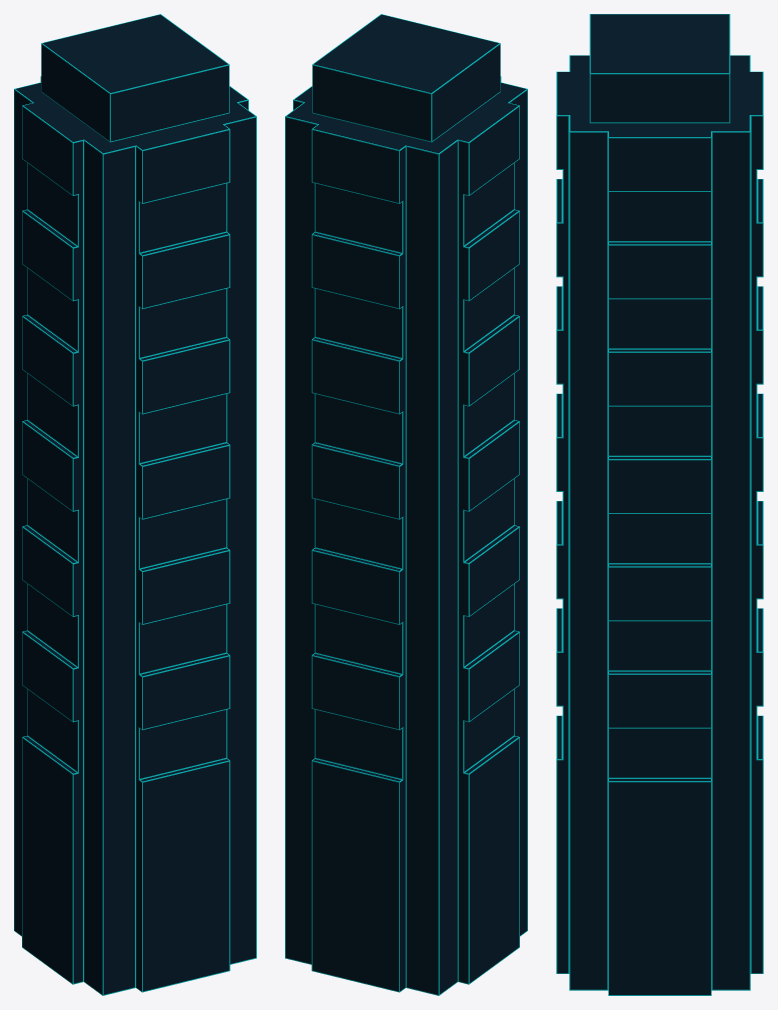
The picture shows the model from 3 angles, left to right: view 1: azimuth 30°, elevation 25°; view 2: azimuth 150°, elevation 25°; view 3: azimuth 270°, elevation 25°; orthographic projection.
Parts seen in each view (by area): view 1: BuildingC01; view 2: BuildingC01; view 3: BuildingC01.
Boxes of the visible parts, box(x1,y1,x2,y2) form: BuildingC01: box(14, 14, 256, 995); BuildingC01: box(285, 14, 527, 995); BuildingC01: box(556, 14, 763, 995).
Size of the model in its own units: 39.91 by 193 by 39.91.
1 material, 1 textured.
